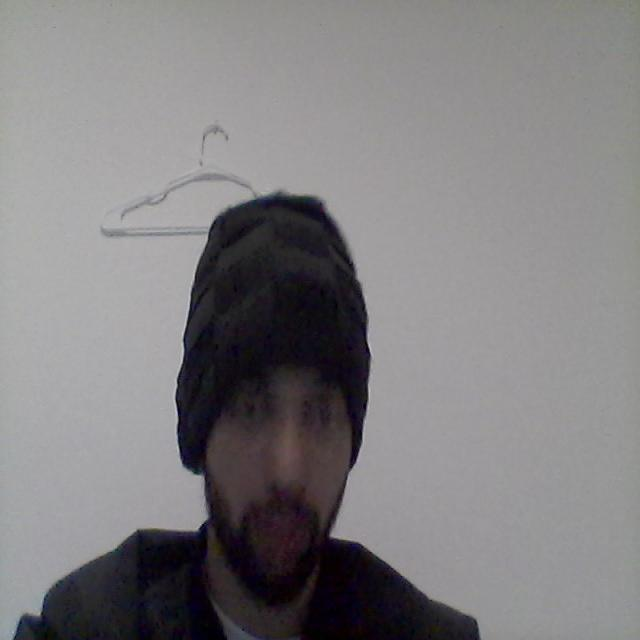cap: (131, 171, 425, 461)
